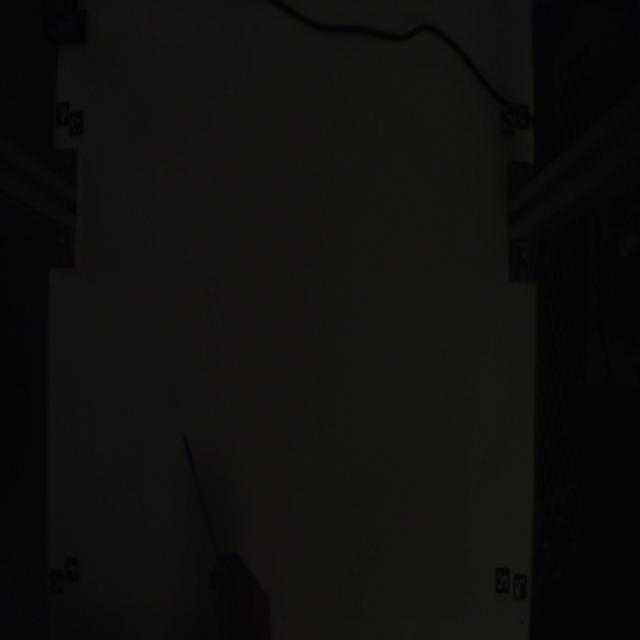NoPres: (175, 424, 218, 572)
